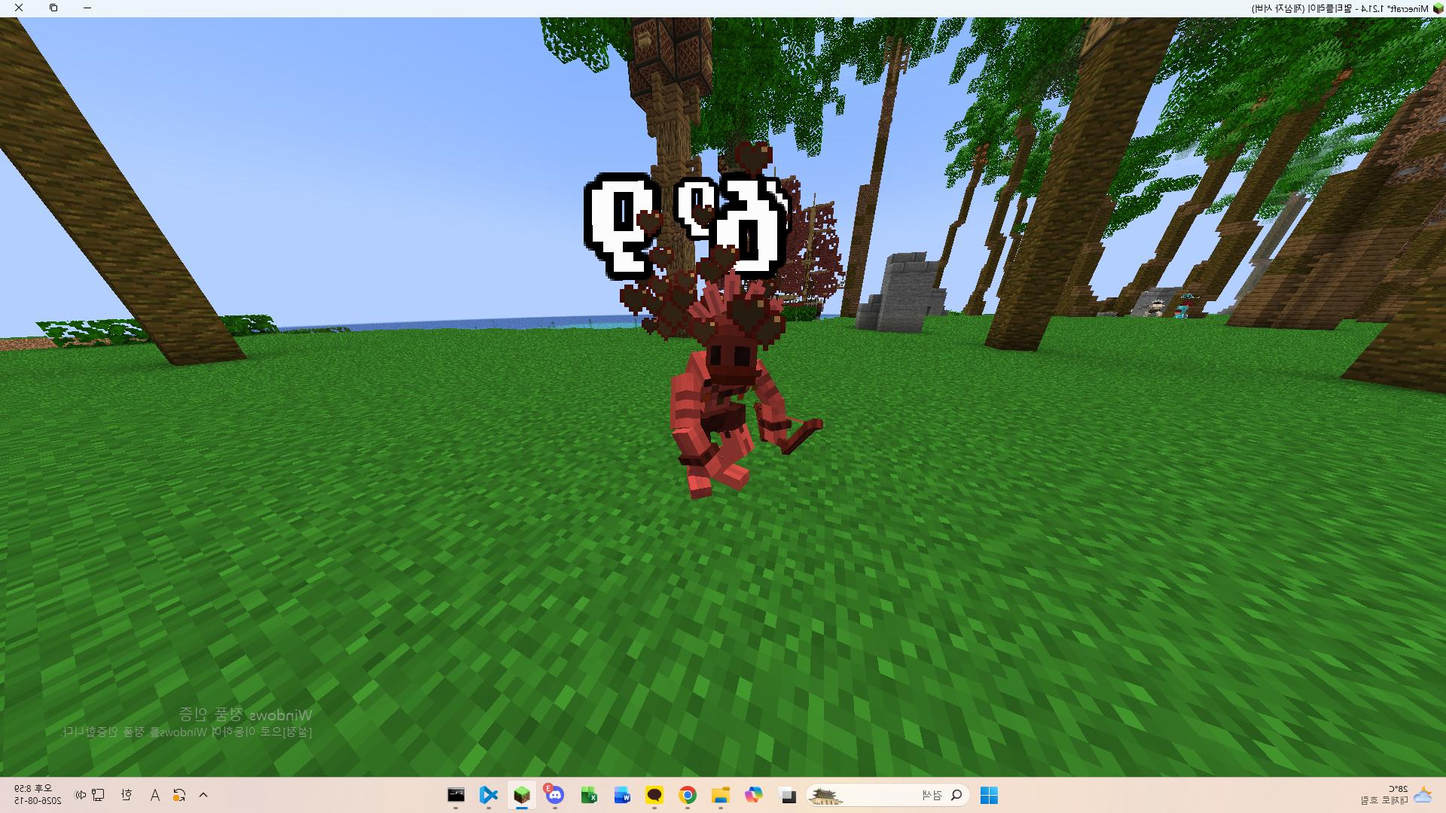bow_indian: (598, 257, 868, 502)
